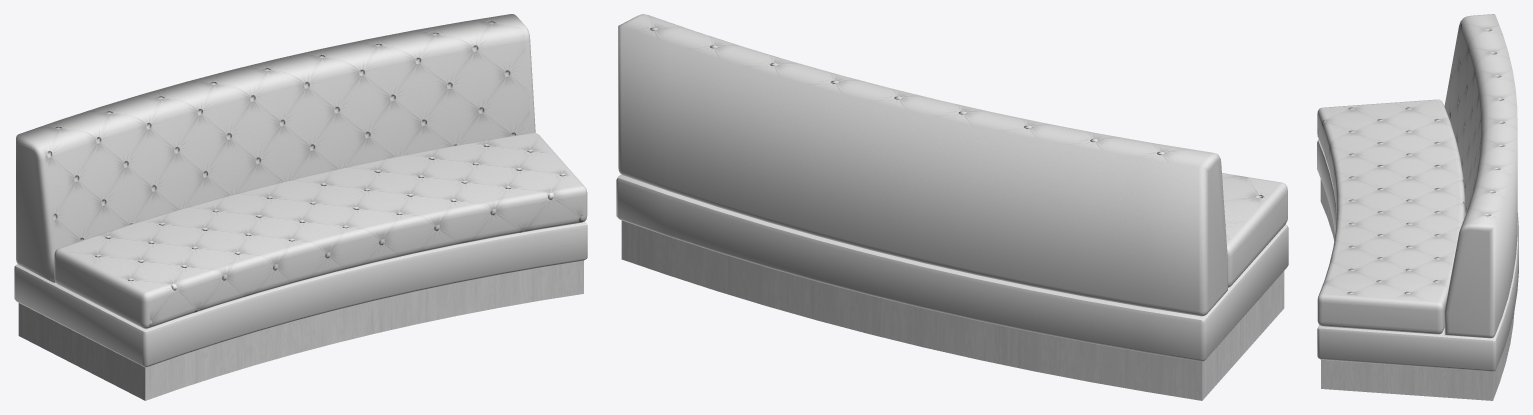
File: Sofa03_3.FBX
3 views of the same model, side by side, from view 1: azimuth 30°, elevation 25°; view 2: azimuth 150°, elevation 25°; view 3: azimuth 270°, elevation 25° (orthographic). The views are drawn at different scales.
Visible parts, largest first — view 1: Sofa03_3; view 2: Sofa03_3; view 3: Sofa03_3.
Boxes of the visible parts, bbox=[...] form: Sofa03_3: bbox=[14, 14, 587, 400]; Sofa03_3: bbox=[616, 14, 1288, 400]; Sofa03_3: bbox=[1317, 14, 1518, 400].
Bounding box in the file's own units: 310 × 118 × 123.
